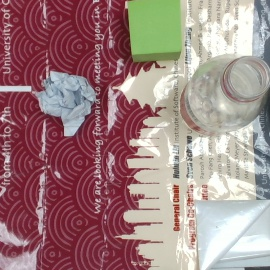bottle: (170, 55, 270, 139)
